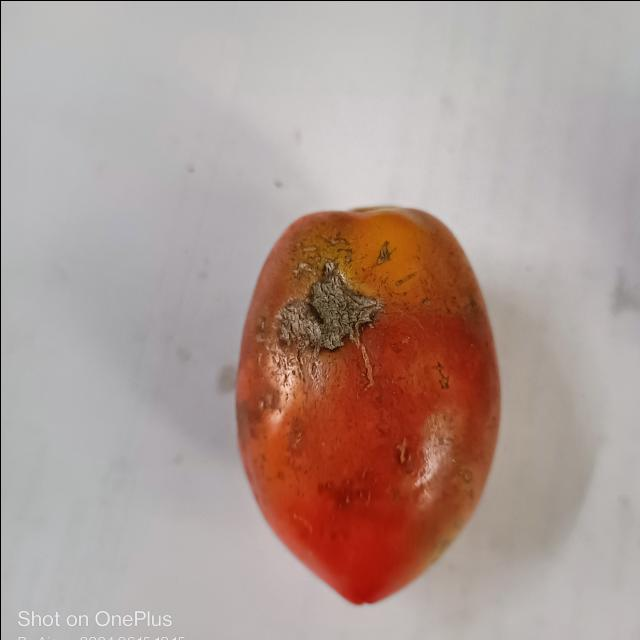Bacterial_Spot: (268, 252, 384, 352), (433, 358, 449, 386)
